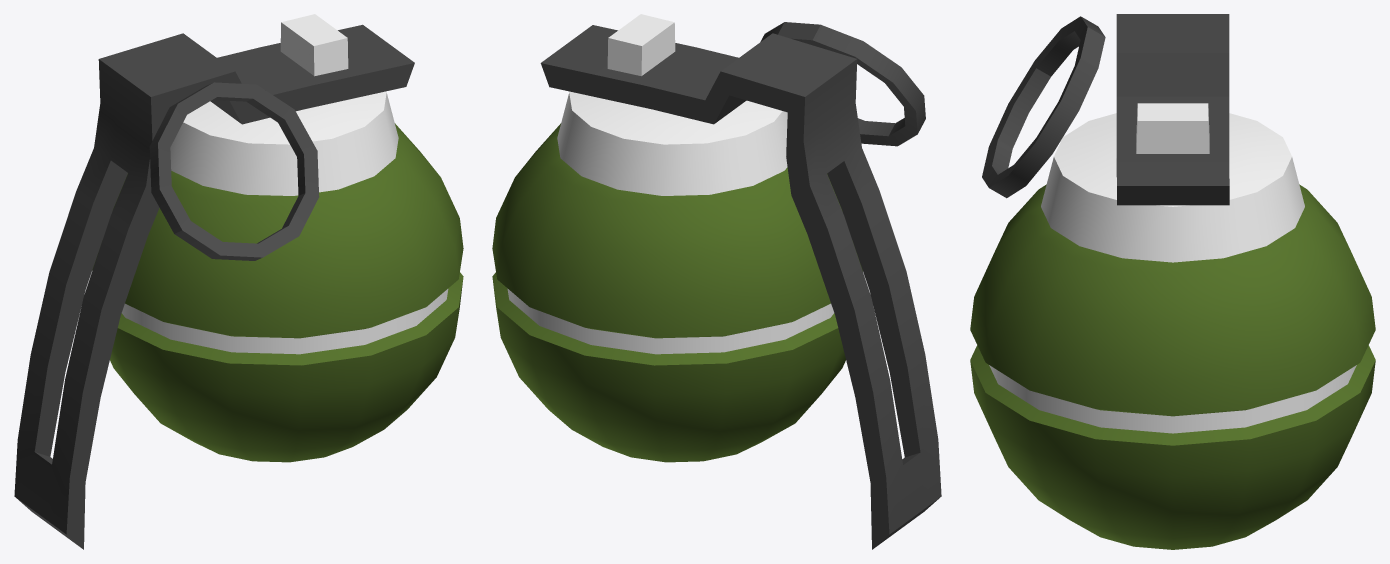
File: nadefrag.glb
3 views of the same model, side by side, from view 1: azimuth 30°, elevation 25°; view 2: azimuth 150°, elevation 25°; view 3: azimuth 270°, elevation 25° (orthographic). The views are drawn at different scales.
Parts seen in each view (by area): view 1: Grenade; view 2: Grenade; view 3: Grenade.
Part boxes in pixels (left/top/right/bottom): Grenade: left=14, top=14, right=463, bottom=549; Grenade: left=492, top=14, right=941, bottom=549; Grenade: left=970, top=14, right=1375, bottom=549.
Bounding box in the file's own units: 0.5637 × 0.6051 × 0.459.
